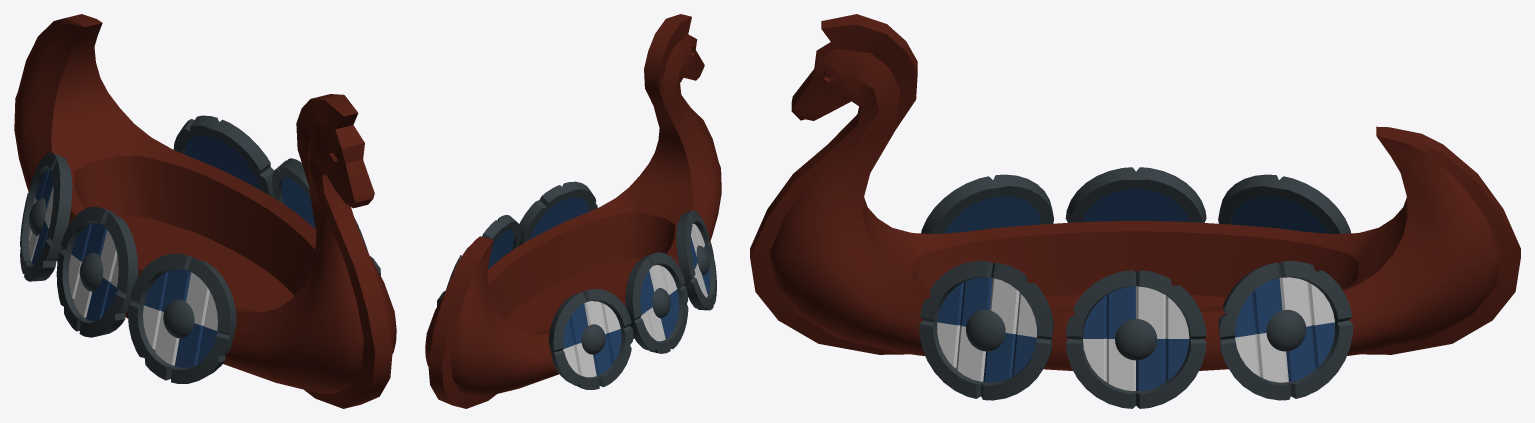
The model's file is longboat_mini.obj.
3 renders of one model, left to right at view 1: azimuth 30°, elevation 25°; view 2: azimuth 150°, elevation 25°; view 3: azimuth 270°, elevation 25°, orthographic. The views are drawn at different scales.
Visible parts, largest first — view 1: longboat_mini_Sphere.033; view 2: longboat_mini_Sphere.033; view 3: longboat_mini_Sphere.033.
Part boxes in pixels (x1,y1,x2,y2): longboat_mini_Sphere.033: [14, 14, 396, 408]; longboat_mini_Sphere.033: [425, 14, 721, 408]; longboat_mini_Sphere.033: [750, 14, 1520, 408].
Size of the model in its own units: 1.34 by 1.54 by 3.25.
